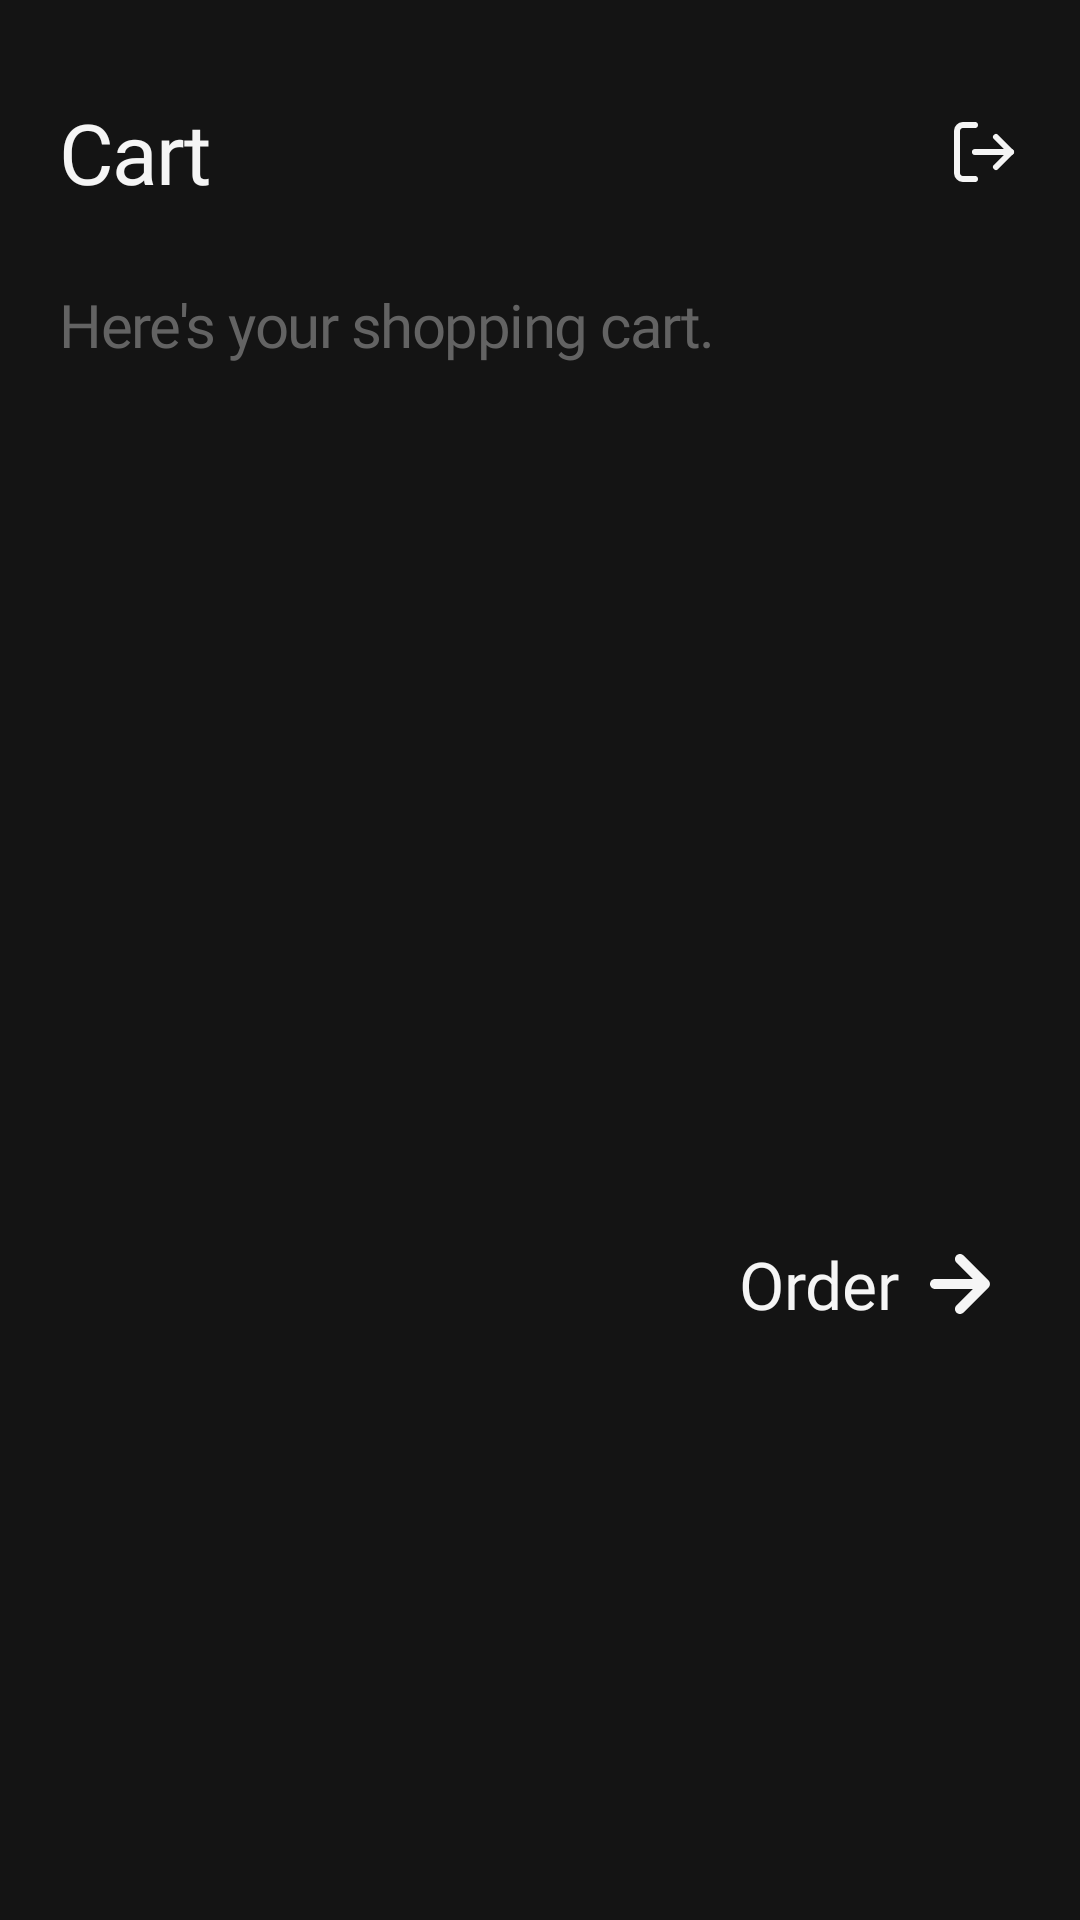

Where to tap for icons on this 1080px×1920px app screen, as (x=x, y=y):
arrow right: (x=960, y=1284)
log out: (x=984, y=152)
